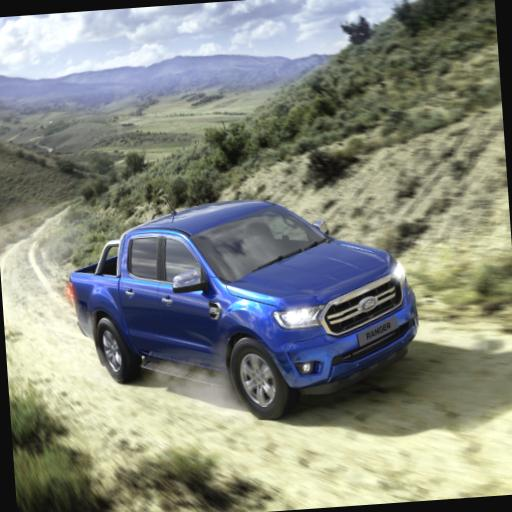pickup: (57, 183, 428, 436)
